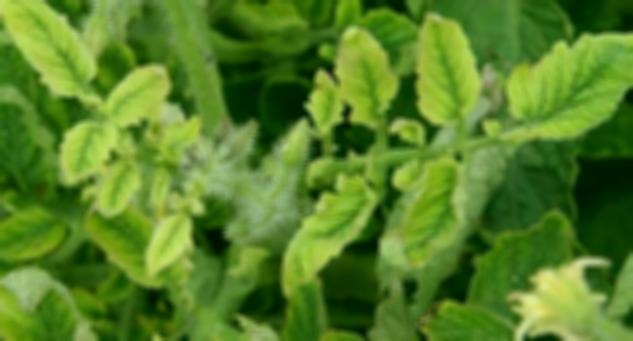Tomato leaf yellow virus: (497, 19, 633, 152), (275, 172, 381, 310), (388, 149, 472, 291), (0, 0, 96, 123), (416, 6, 473, 130), (46, 116, 112, 222), (101, 48, 176, 140), (343, 8, 394, 118), (135, 215, 200, 290)
